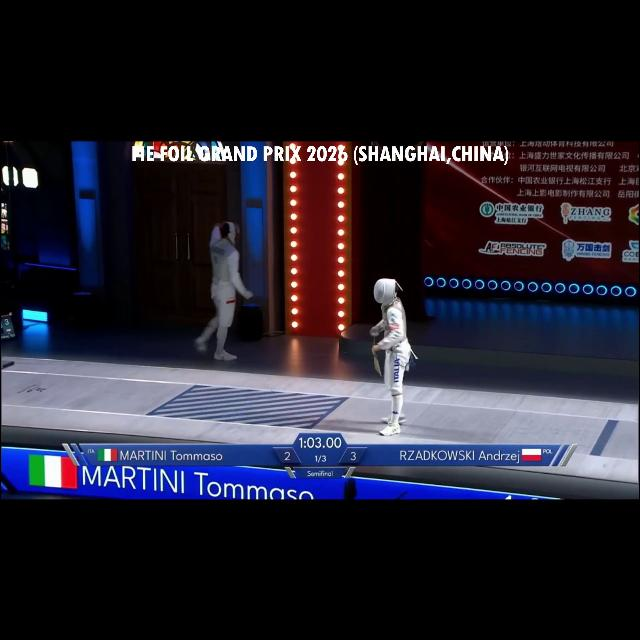blade: (368, 324, 386, 384)
